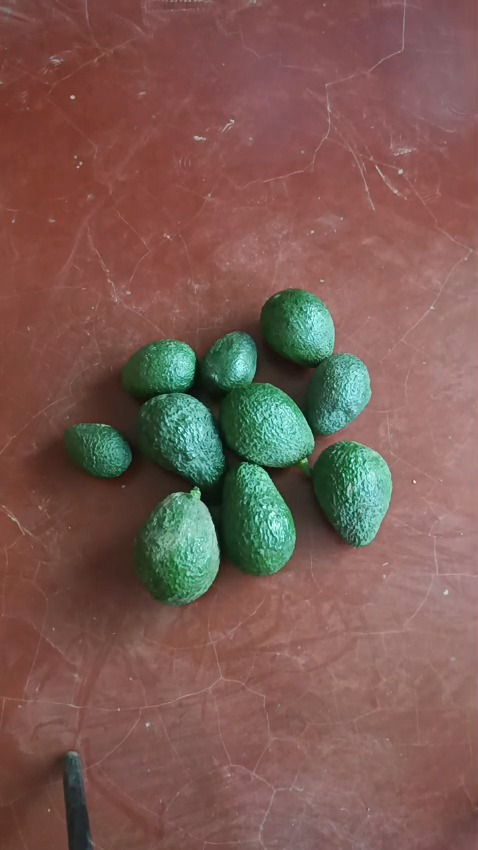Primera: (131, 491, 221, 601), (134, 391, 227, 488), (310, 441, 393, 546), (219, 463, 296, 575), (219, 383, 315, 468)
Segunda: (259, 288, 335, 364), (303, 353, 372, 436)
Tercera: (121, 340, 197, 400), (63, 422, 132, 478), (200, 330, 259, 395)
